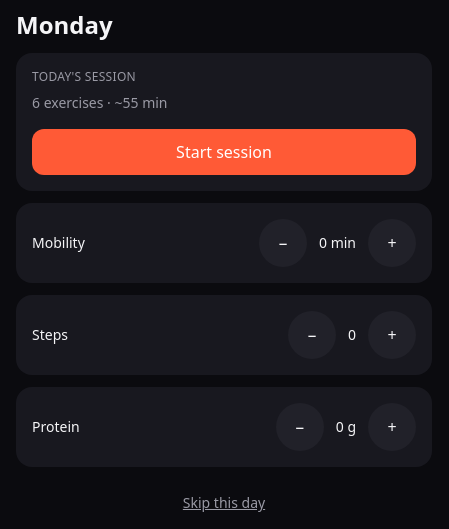
Test case: Today screen › shows a Mobility stepper (0-10 min) on a lifting day and persists on tap
Expected: the text "Mobility" is shown, x1=32 y1=233 x2=85 y2=253
Expected: the text "0 min" is shown, x1=319 y1=233 x2=356 y2=253
Click the button named "Increase mobility minutes" at (392, 243), box x1=368 y1=219 x2=416 y2=267
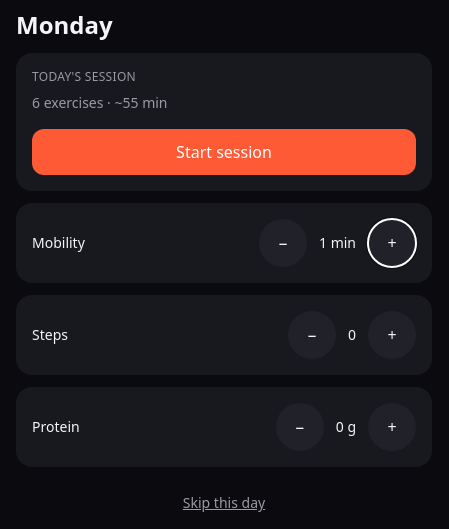
Expected: the text "1 min" is shown, x1=319 y1=233 x2=356 y2=253
